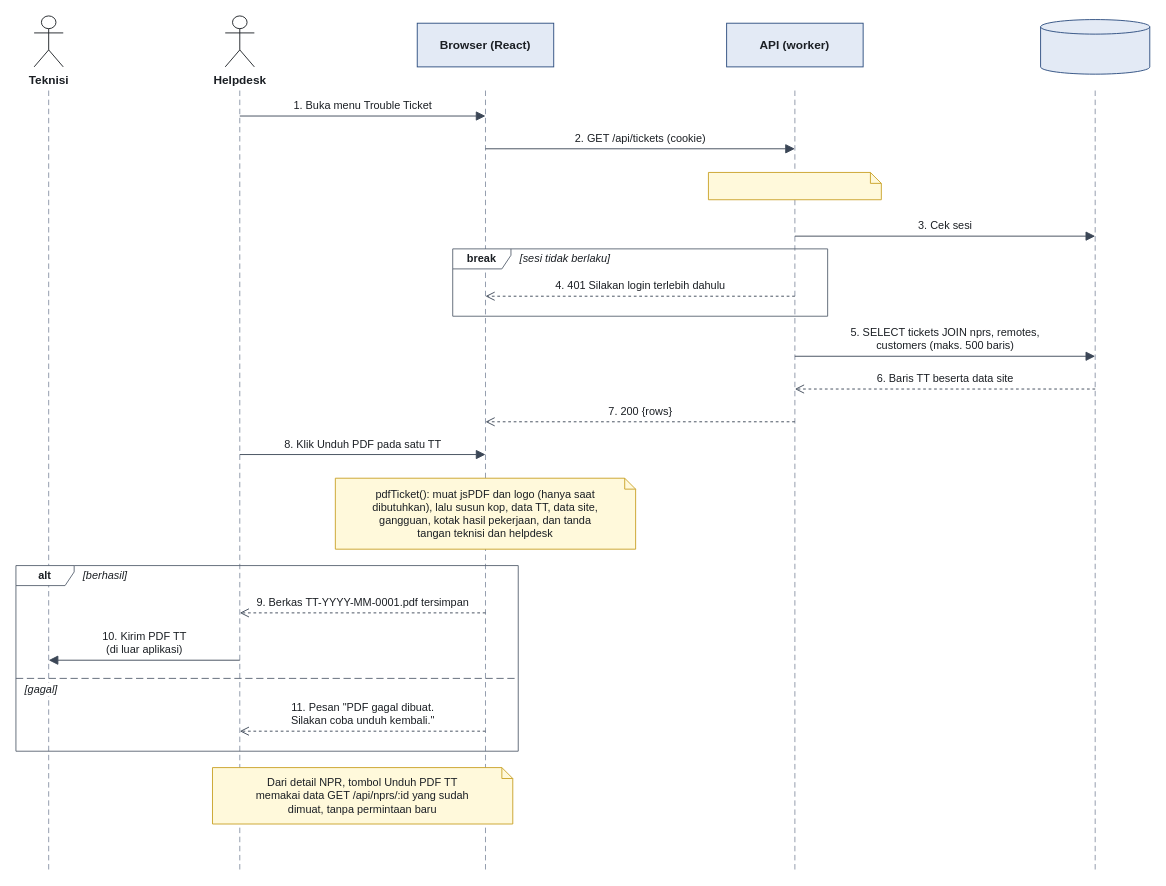
This 1166x886 diagram has some shape labels left out. The shapes that lost their labels are listed below. From the top down, each one's centre as x and y in pixels, then its label:
At (x=1095, y=46): "Database".
At (x=794, y=186): "GET tidak dicek Origin".
